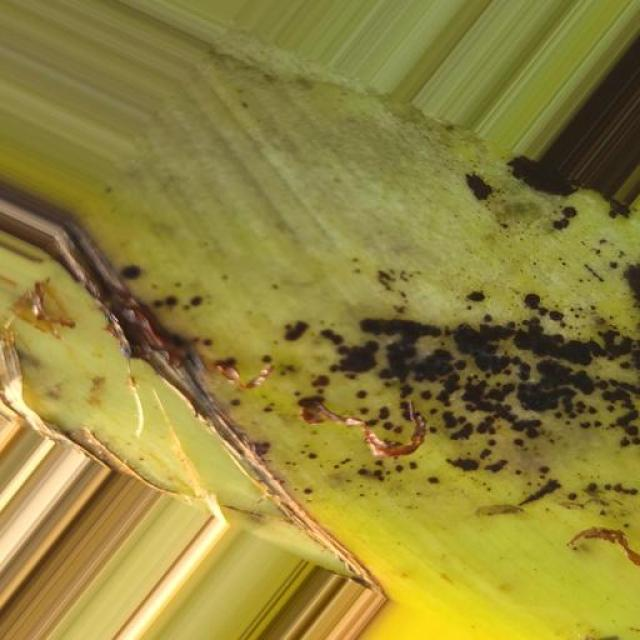Anthracnose: (19, 89, 640, 640)
